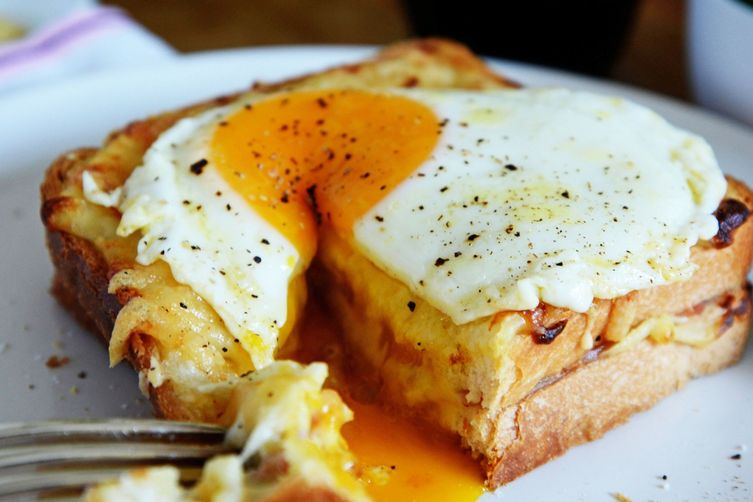fried egg: (166, 85, 641, 284)
slice of bread: (374, 290, 751, 465)
